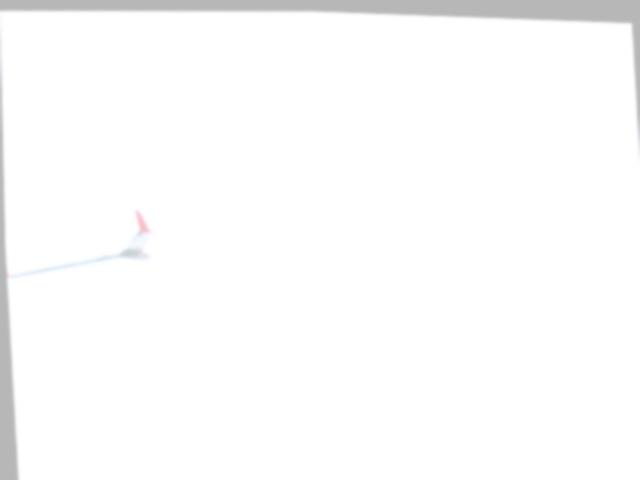flying wing: (4, 202, 154, 284)
